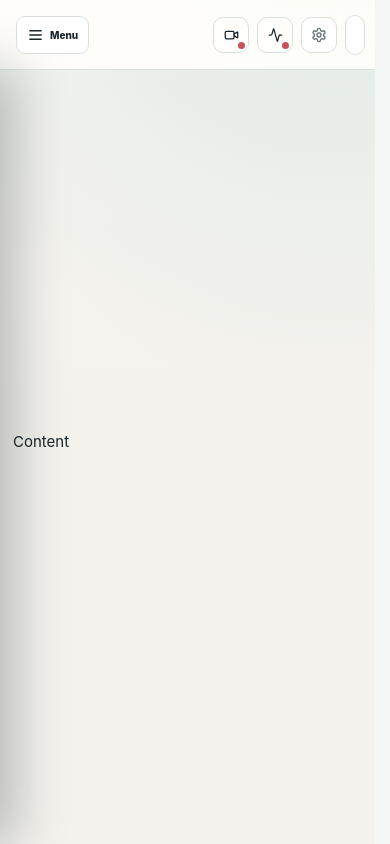
Test: MasterFrame › opens and closes the responsive navigation control
The width and height of the screenshot is (390, 844).
Step 1. Click the button with aria-label "Open research navigation" → (53, 35), box top-left (16, 16), bottom-right (89, 54)
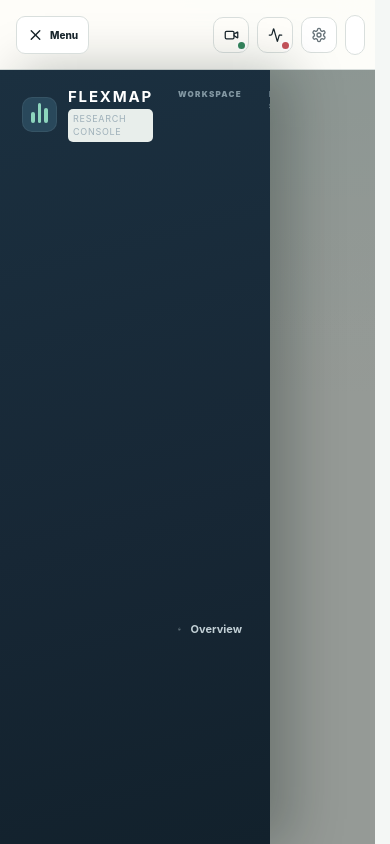
Check: the button with aria-label "Close research navigation" is expanded, box top-left (16, 16), bottom-right (89, 54)
